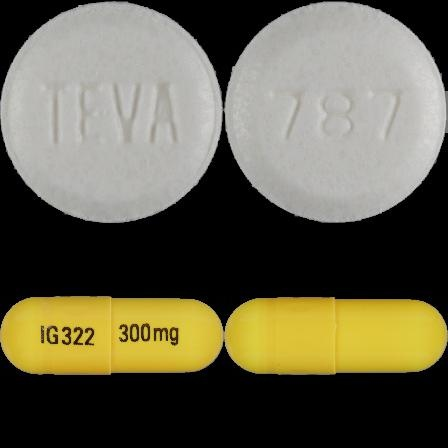70786-0787: (0, 0, 224, 224)
